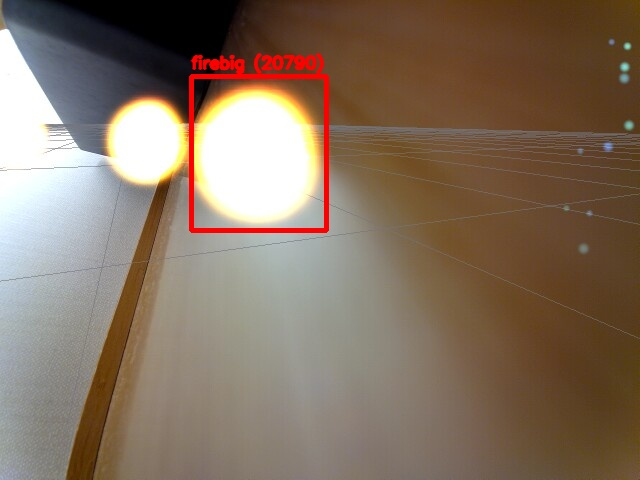firebig: (191, 76, 326, 230)
